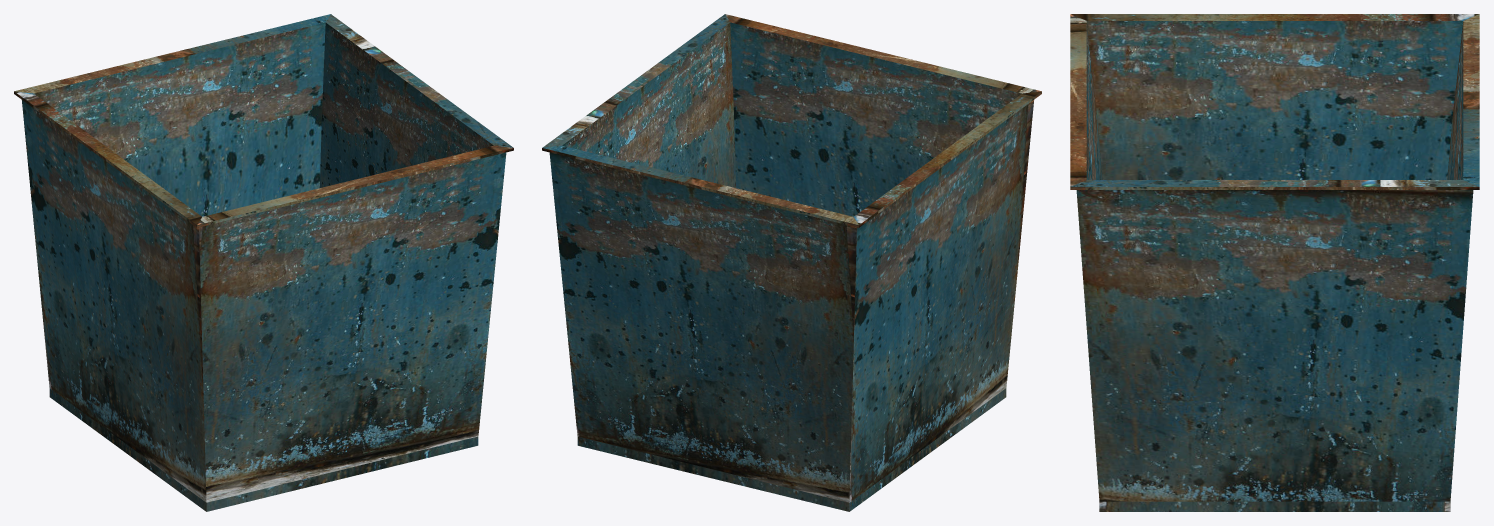
File: Bak_003.fbx
3 views of the same model, side by side, from view 1: azimuth 30°, elevation 25°; view 2: azimuth 150°, elevation 25°; view 3: azimuth 270°, elevation 25° (orthographic). The views are drawn at different scales.
Visible parts, largest first — view 1: Cube; view 2: Cube; view 3: Cube.
Boxes of the visible parts, <box> form: Cube: <box>14,14,513,511</box>; Cube: <box>542,14,1041,511</box>; Cube: <box>1070,14,1479,511</box>.
Bounding box in the file's own units: 113 × 103 × 113.
1 material, 1 textured.
